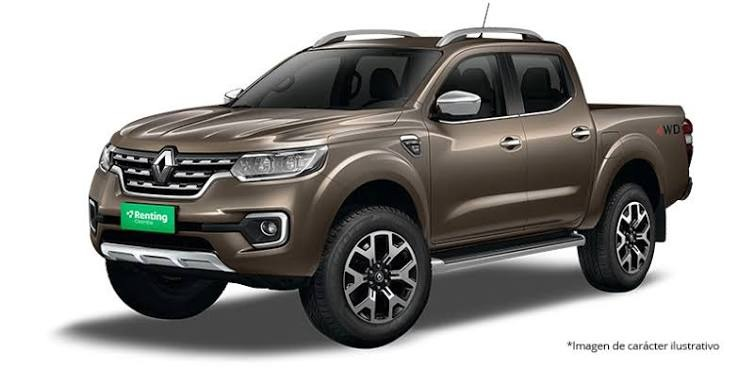car: (85, 18, 703, 342)
